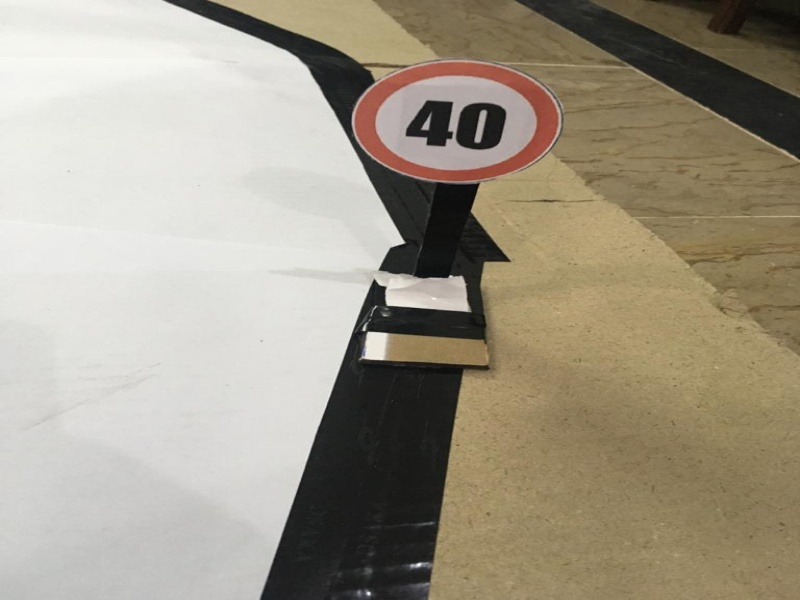Speed Limit 40: (351, 48, 565, 187)
